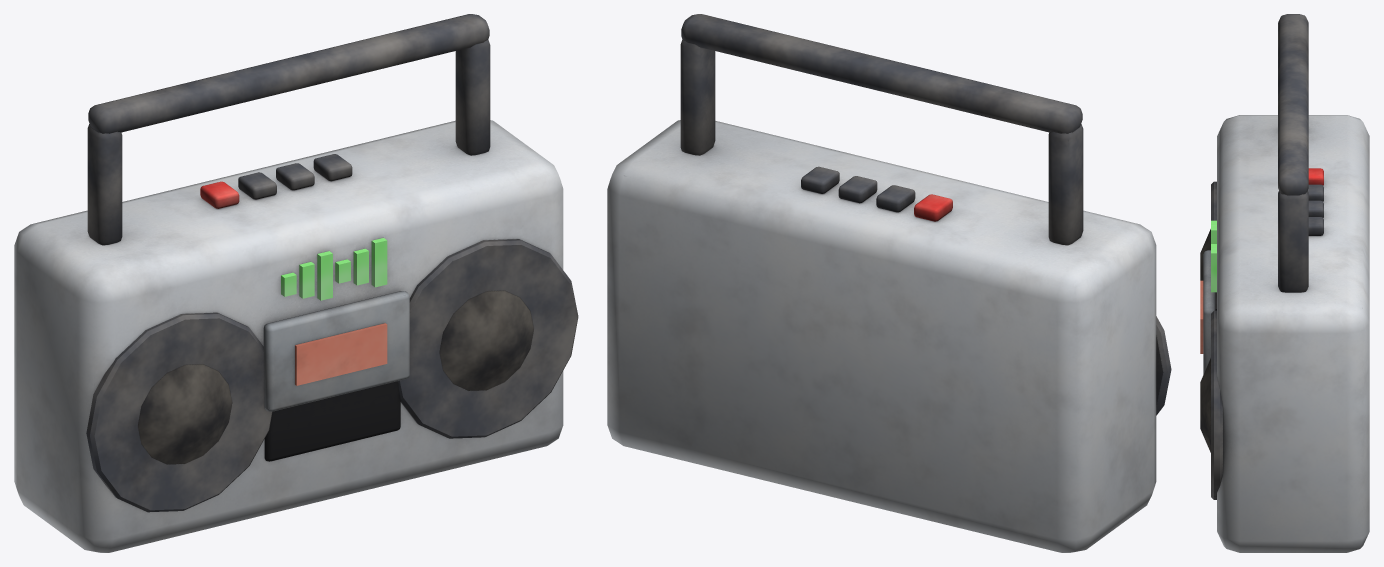
File: boombox.fbx
3 renders of one model, left to right at view 1: azimuth 30°, elevation 25°; view 2: azimuth 150°, elevation 25°; view 3: azimuth 270°, elevation 25°, orthographic. The views are drawn at different scales.
Visible parts, largest first — view 1: Body, Flap, Glow, Button; view 2: Body, Button; view 3: Body, Flap, Button, Glow.
Boxes of the visible parts, left/top/right/bottom form: Body: left=14, top=14, right=578, bottom=552; Flap: left=263, top=291, right=409, bottom=411; Glow: left=281, top=238, right=387, bottom=300; Button: left=200, top=154, right=352, bottom=208; Body: left=607, top=14, right=1171, bottom=552; Button: left=801, top=166, right=952, bottom=221; Body: left=1200, top=14, right=1369, bottom=552; Flap: left=1200, top=250, right=1215, bottom=374; Button: left=1308, top=168, right=1323, bottom=235; Glow: left=1211, top=220, right=1216, bottom=292.
Size of the model in its own units: 3.24 by 2.63 by 1.11.
Materials: 1 (1 with a texture image).
